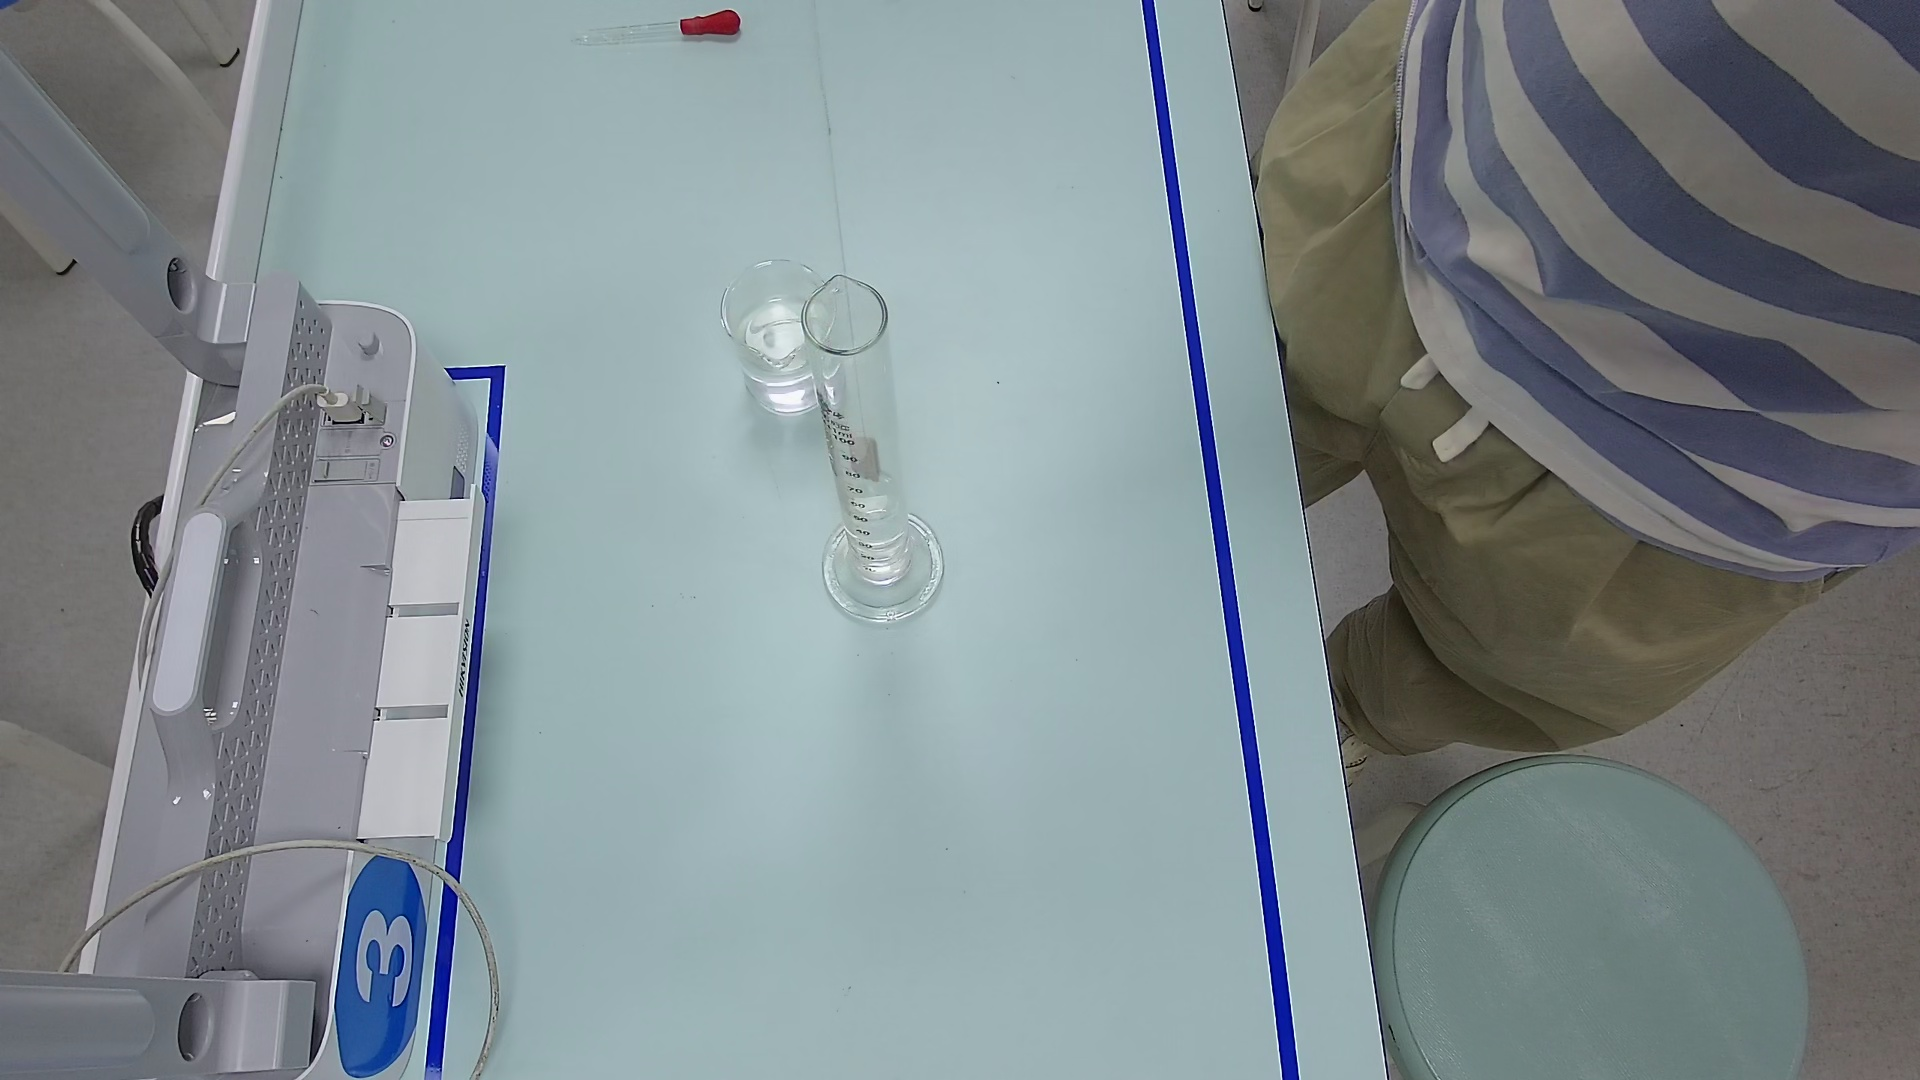ao: (840, 475, 901, 512)
bei: (716, 256, 836, 415)
diguan: (575, 1, 744, 53)
diguantou: (676, 5, 745, 51)
liangdi: (819, 520, 952, 632)
liangtong: (802, 276, 944, 633)
shi: (853, 435, 887, 484)
